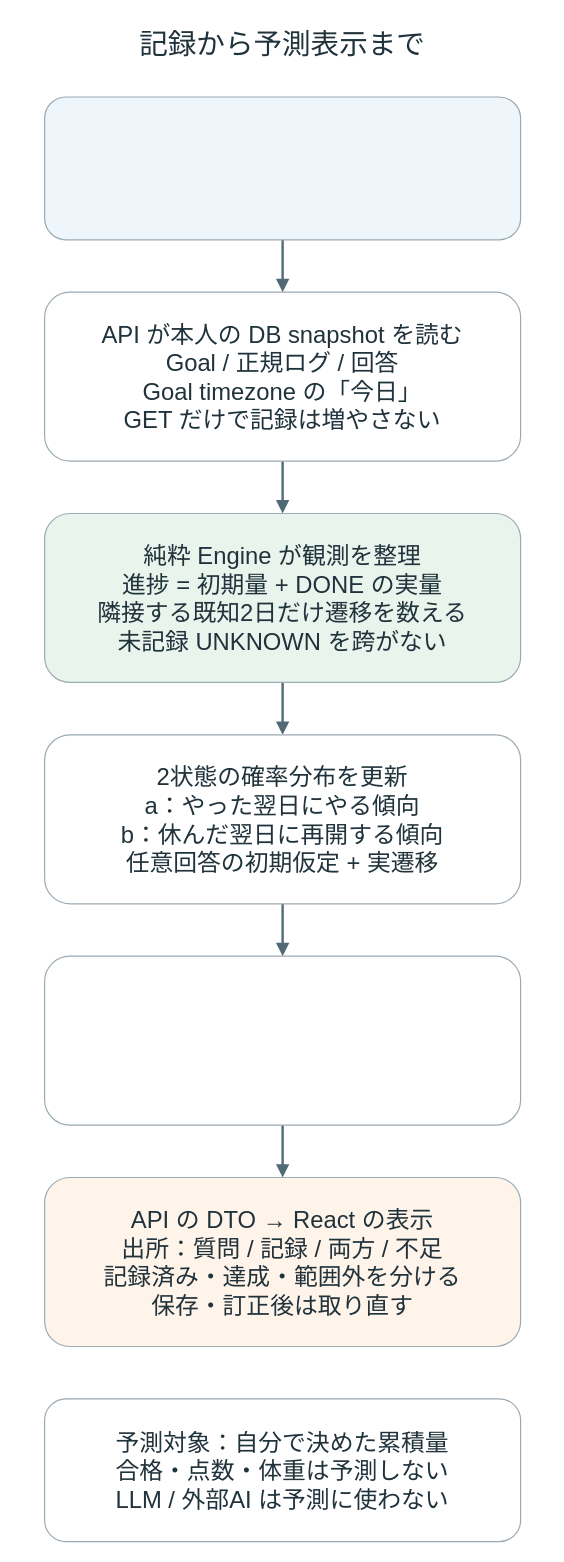
Some shapes in this 564 by 1562 pixel diagram are drawn without their labels. Here are the shapes that lost their labels. From the top down, the centre of each, then its label:
At point 282,168: "記録を明示的に保存 DONE は正の整数の量 SKIPPED は量なし".
At point 282,1040: "別々の目安を計算 b → 再開待ち g50（閉形式） a / b + 残量 + 設定量 → 完了 CDF と P50 / P80".
